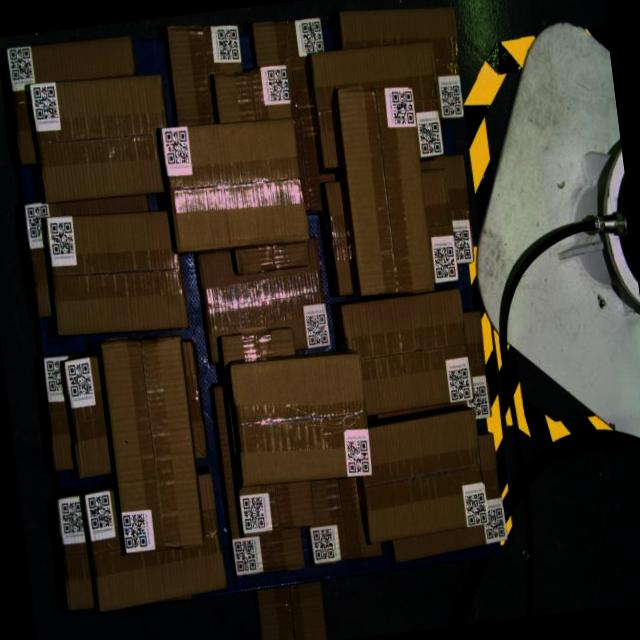box: (100, 333, 207, 555), (335, 78, 437, 299), (160, 112, 309, 255), (43, 200, 189, 344), (228, 349, 375, 491), (29, 67, 176, 206), (355, 408, 489, 543), (340, 288, 474, 417)
